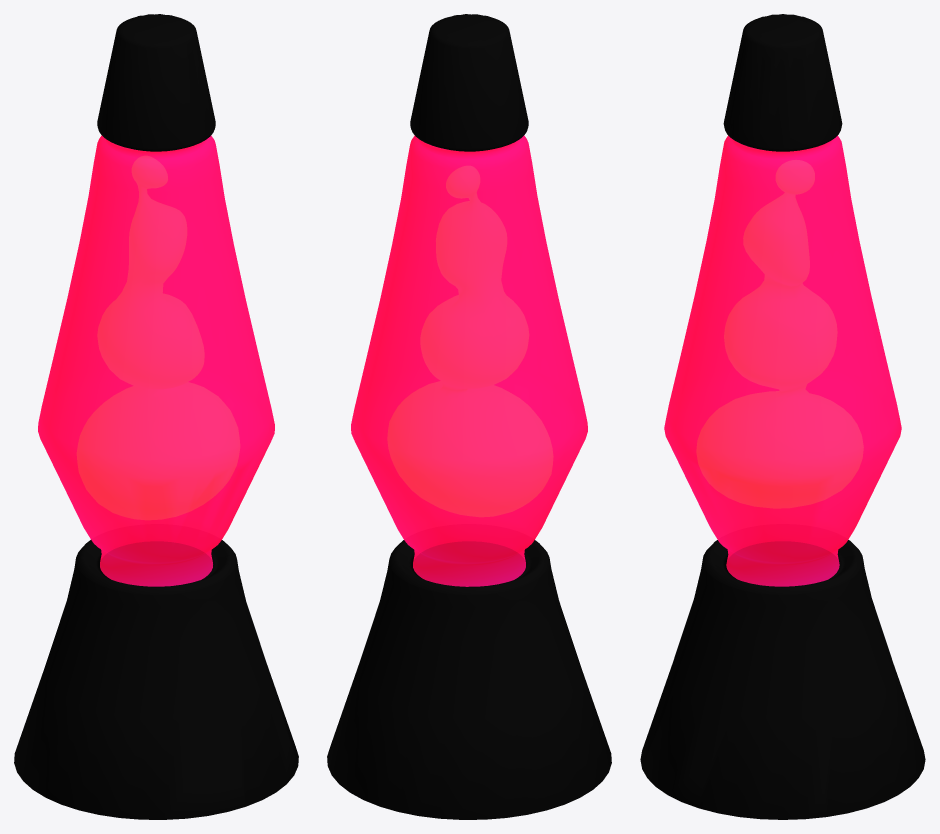
Rendered from lava-lamp.glb.
3 renders of one model, left to right at view 1: azimuth 30°, elevation 25°; view 2: azimuth 150°, elevation 25°; view 3: azimuth 270°, elevation 25°, orthographic.
Parts seen in each view (by area): view 1: pCylinder1_GLASS_0, pCylinder1_chrome1_0, LAVAMESH_rampShader1_0; view 2: pCylinder1_GLASS_0, pCylinder1_chrome1_0, LAVAMESH_rampShader1_0; view 3: pCylinder1_GLASS_0, pCylinder1_chrome1_0, LAVAMESH_rampShader1_0.
Boxes of the visible parts, <box> form: pCylinder1_GLASS_0: <box>38,135,274,586</box>; pCylinder1_chrome1_0: <box>14,14,298,819</box>; LAVAMESH_rampShader1_0: <box>77,157,239,519</box>; pCylinder1_GLASS_0: <box>351,135,587,586</box>; pCylinder1_chrome1_0: <box>327,14,611,819</box>; LAVAMESH_rampShader1_0: <box>388,166,552,515</box>; pCylinder1_GLASS_0: <box>664,135,901,586</box>; pCylinder1_chrome1_0: <box>640,14,925,819</box>; LAVAMESH_rampShader1_0: <box>698,160,862,507</box>.
Size of the model in its own units: 0.1406 by 0.4 by 0.1406.
